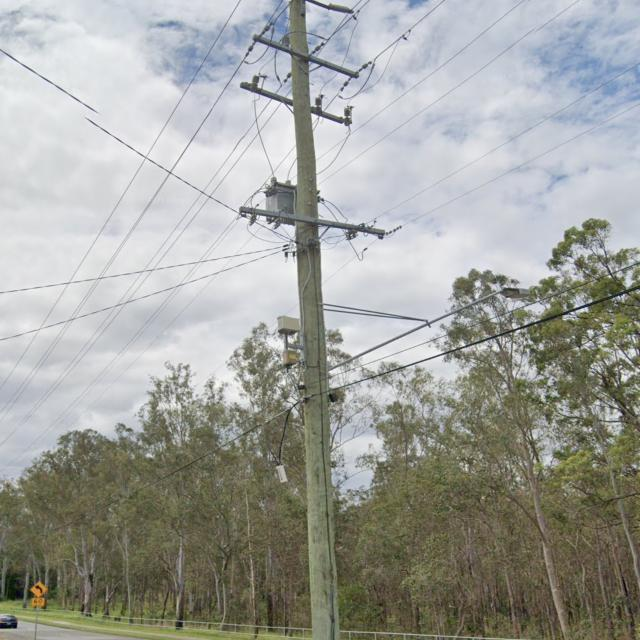HV-transmission: (240, 0, 361, 124)
LV link: (272, 217, 286, 232), (345, 229, 359, 241), (246, 213, 257, 228)
crossarm: (240, 81, 352, 128), (253, 35, 361, 79), (240, 206, 386, 235)
timber-pole: (288, 0, 342, 640)
transformer: (263, 177, 298, 225)
